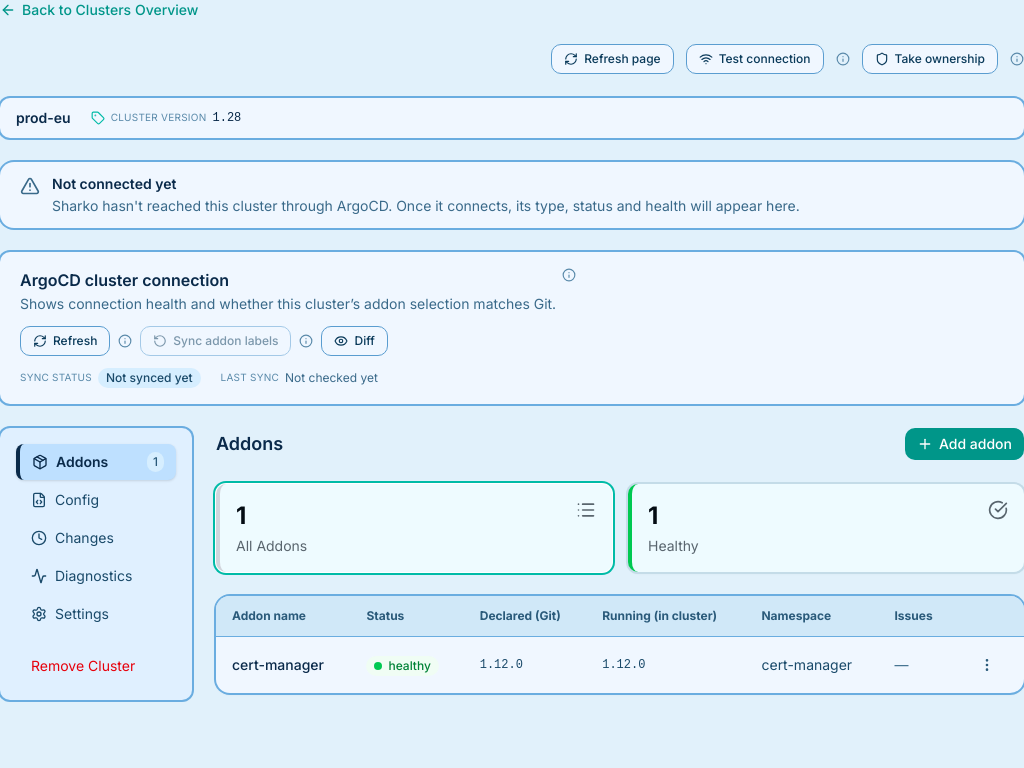
Test case: ClusterDetail — v4 enable routing › v4 repo: clicking an addon in the picker opens V4EnableAddonDialog, not the v3 pending-stage strip
Click the button with test id "manage-addons-enable-btn". click: x=964, y=444
box: [905, 428, 1023, 460]
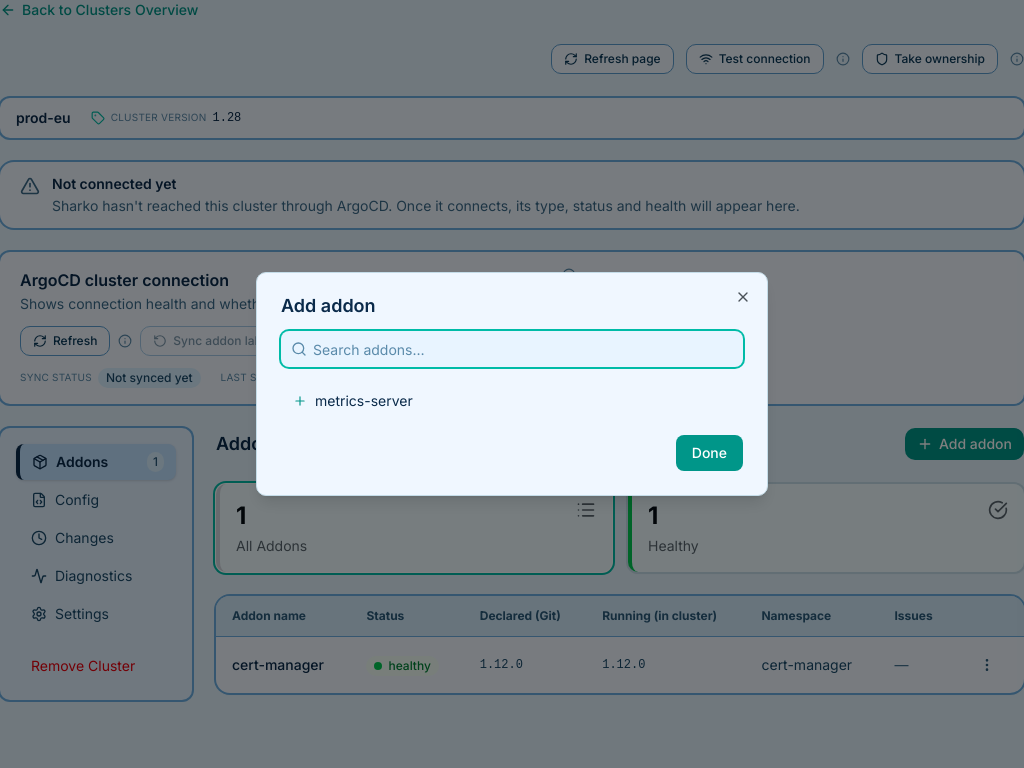
Expected: the button with test id "addon-picker-item-metrics-server" is shown
Click the button with test id "addon-picker-item-metrics-server". click: x=364, y=400
box: [281, 383, 743, 419]
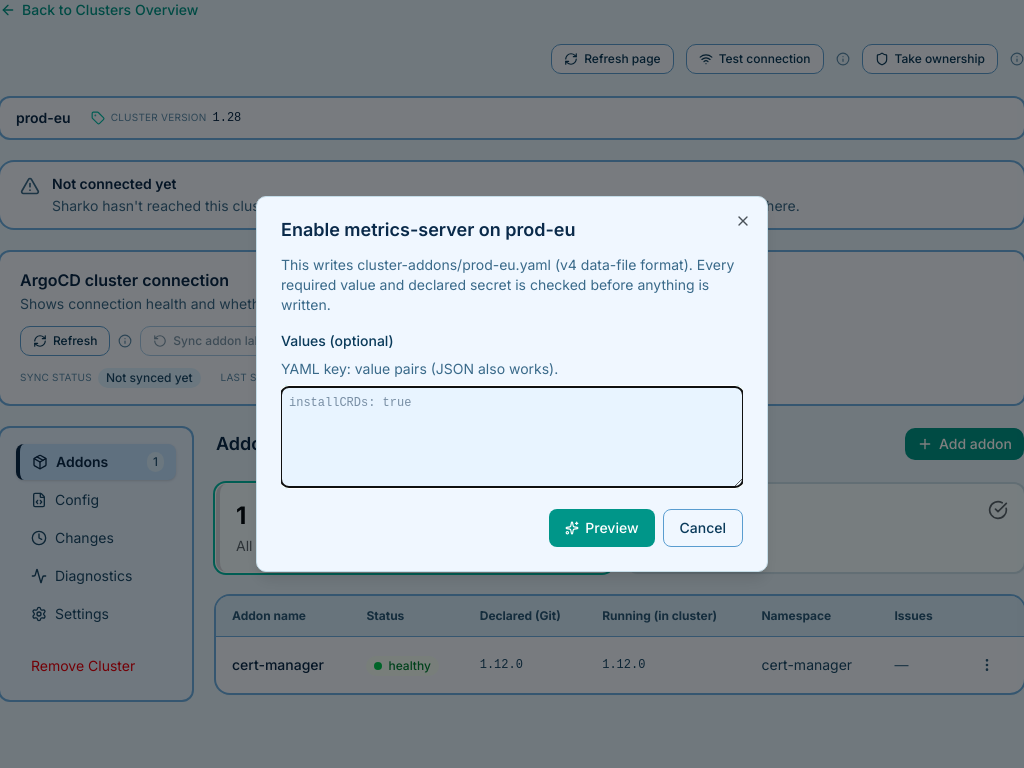
Expected: the heading "Enable metrics-server on prod-eu" is shown, [281, 219, 576, 240]
